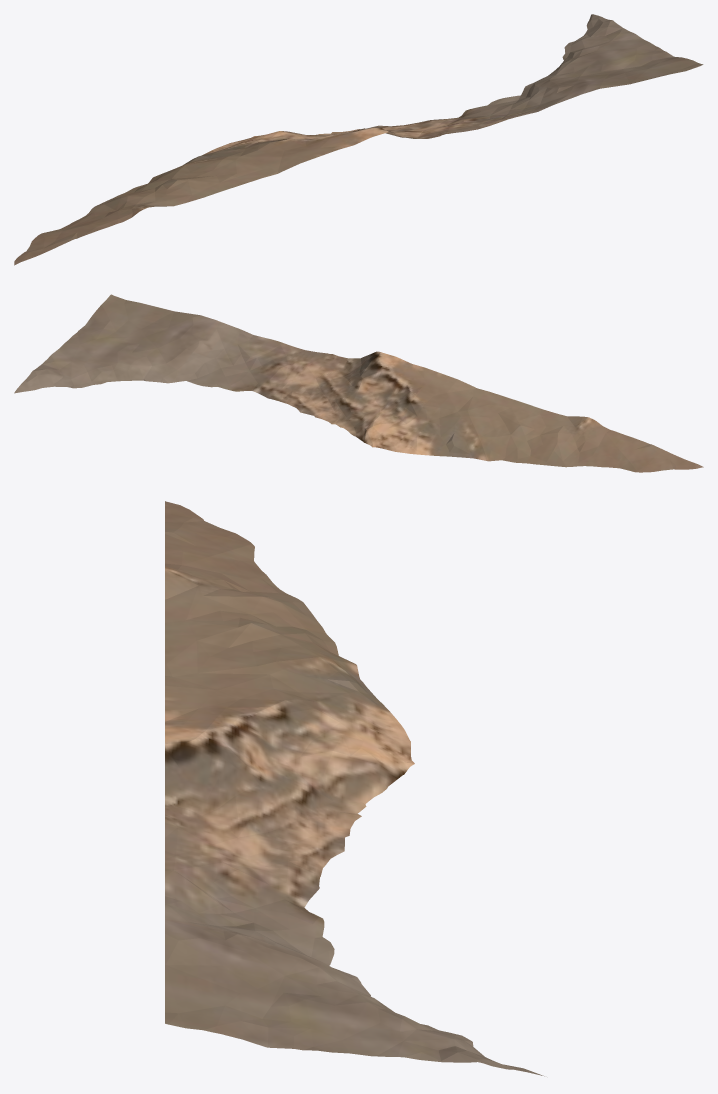
3 views of the same model, one above another, from view 1: azimuth 30°, elevation 25°; view 2: azimuth 150°, elevation 25°; view 3: azimuth 270°, elevation 25° (orthographic). The views are drawn at different scales.
Size of the model in its own units: 1.51 by 0.0882 by 0.4267.
1 material, 1 textured.
